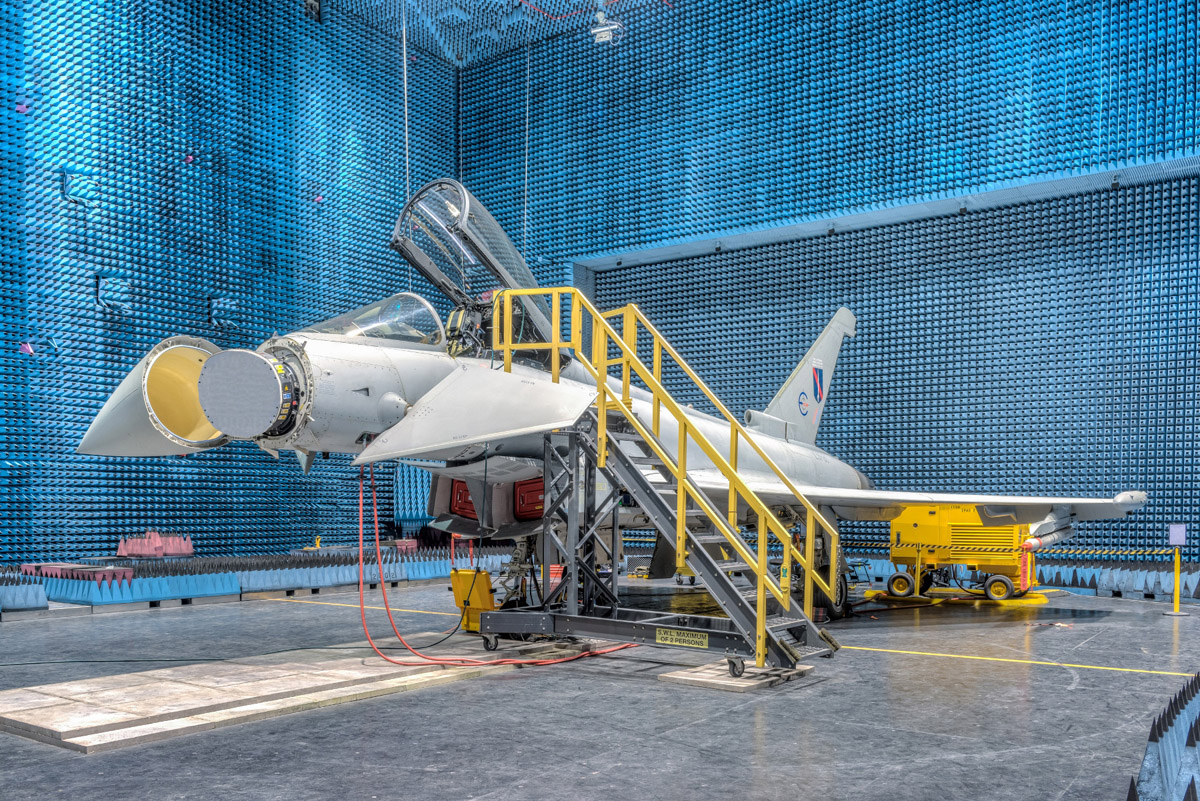JAS39: (76, 177, 1149, 641)
